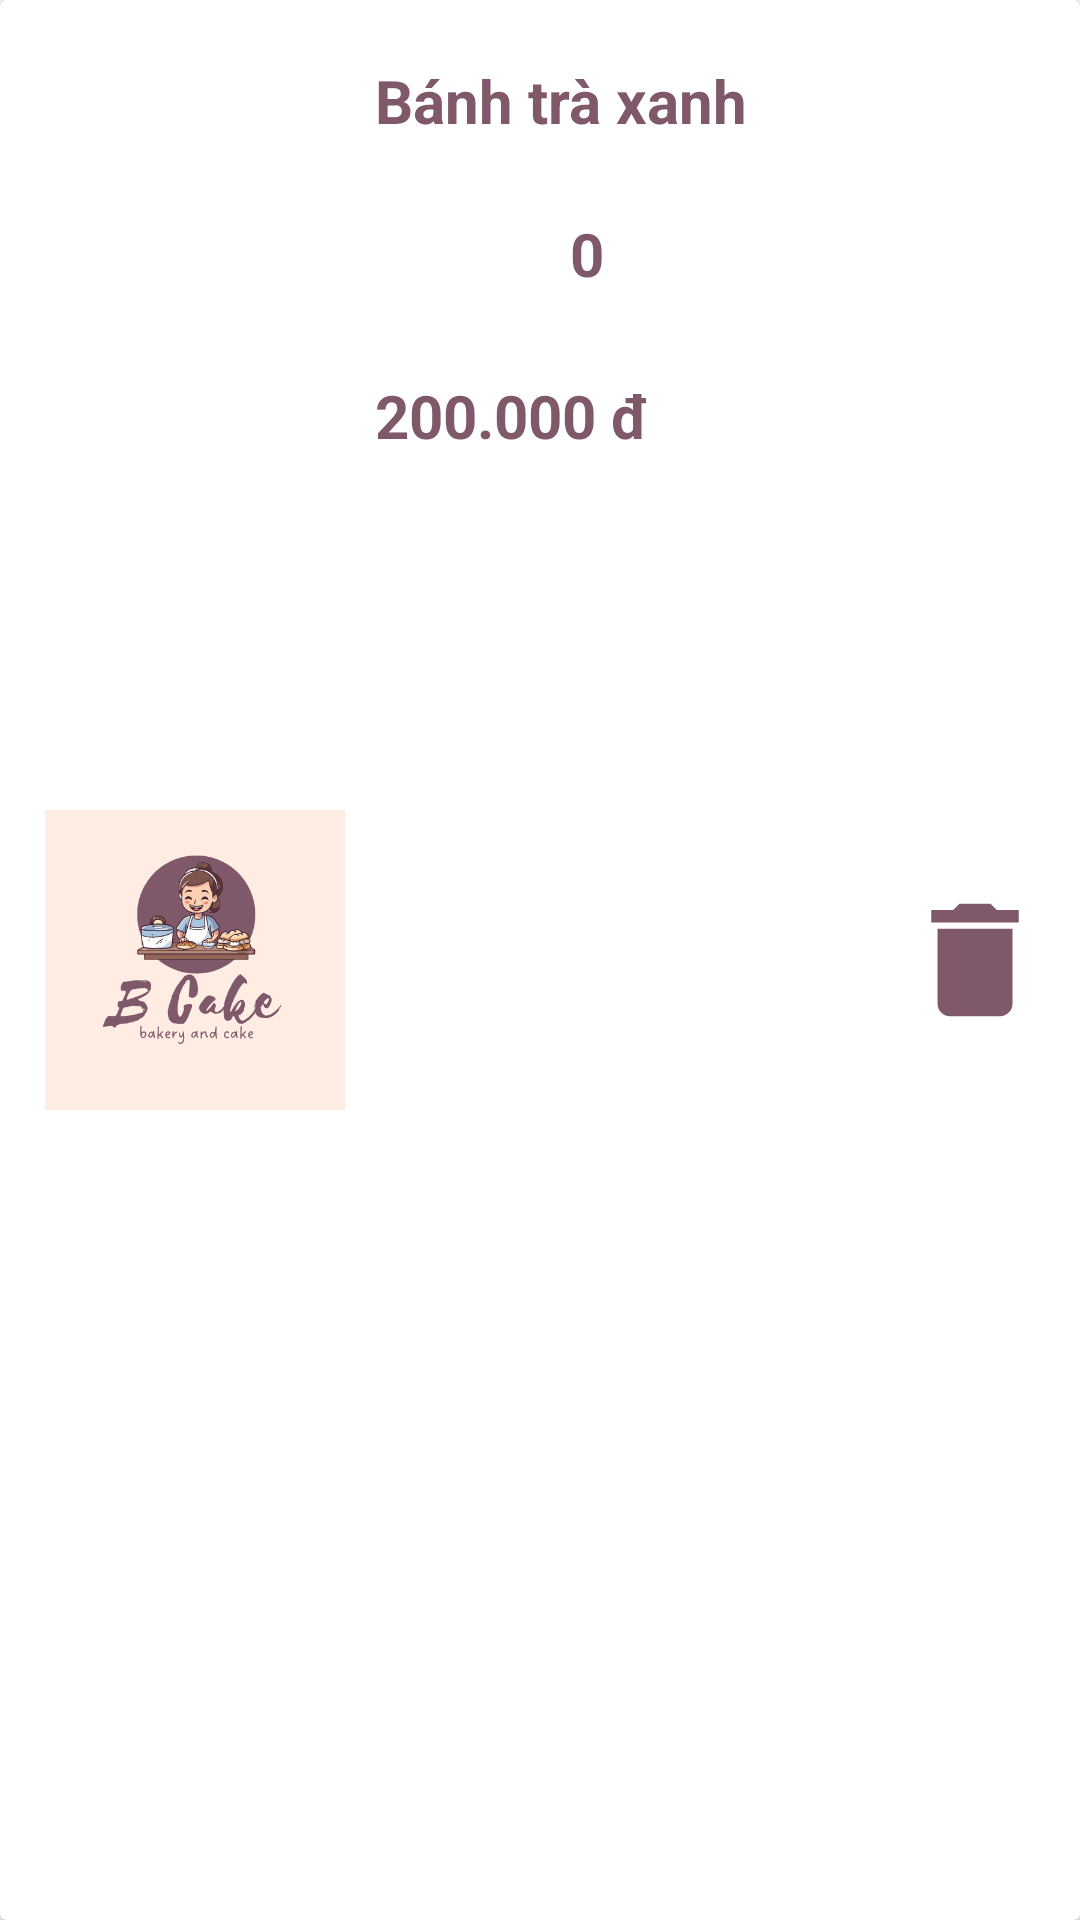

Where icons sit on this 1080px x 1920px app screen, as {"x1": x1, "y1": y1, "x2": x2, "y2": y2}:
delete: {"x1": 931, "y1": 903, "x2": 1019, "y2": 1017}
